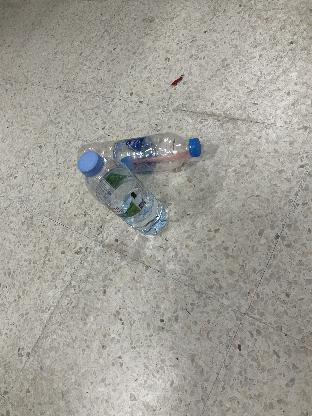Plastic Bottle: (78, 152, 168, 236)
